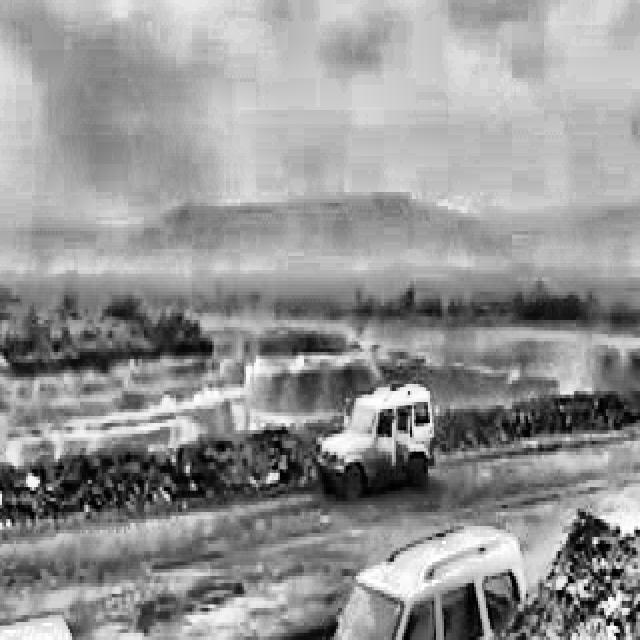light_vehicle: (318, 386, 435, 495)
